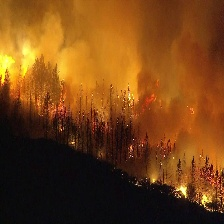fire: (39, 86, 69, 121), (175, 183, 214, 209), (1, 53, 18, 80)
smoke: (3, 1, 222, 94)
